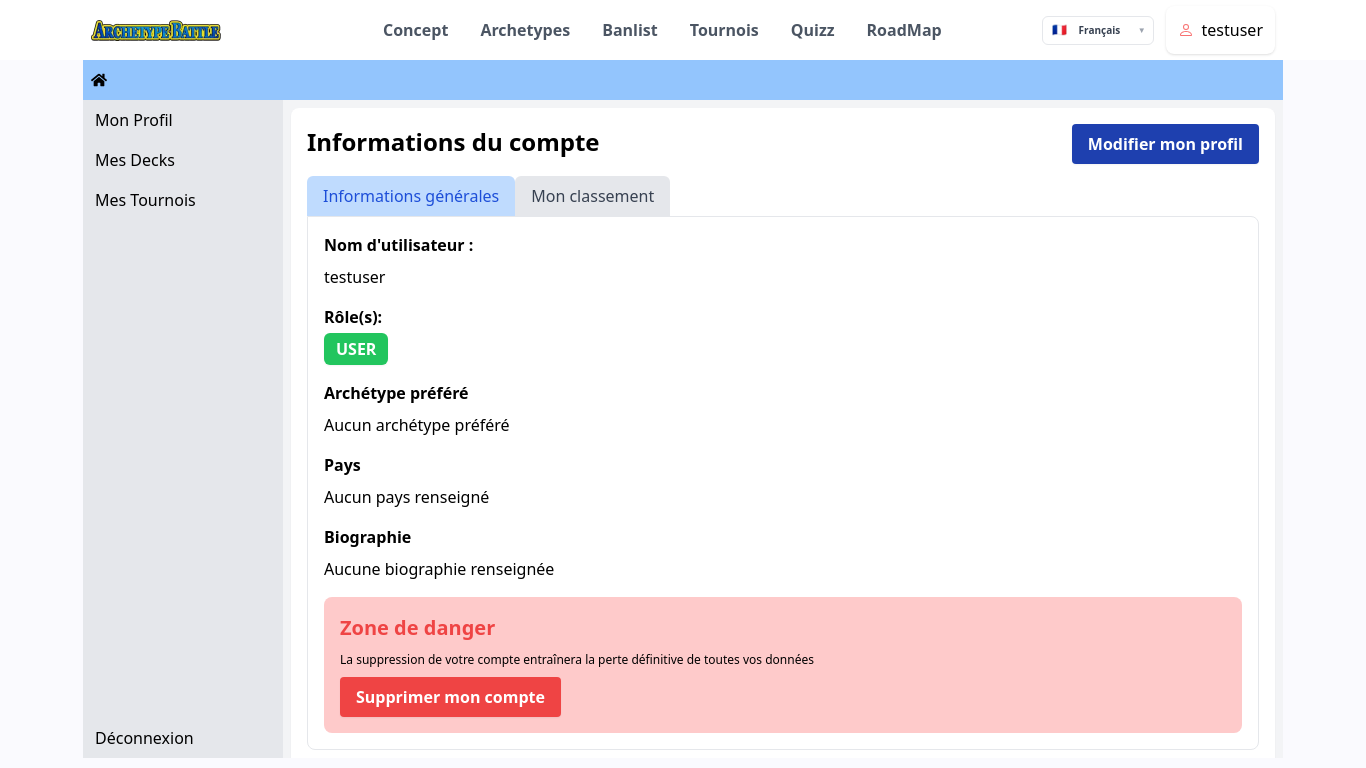
Scenario: MyProfilePage (integration) › account deletion › display the confirmation popup when clicking on 'Supprimer mon compte'
Click the button "Supprimer mon compte" at [450, 697], box [340,677,561,717]
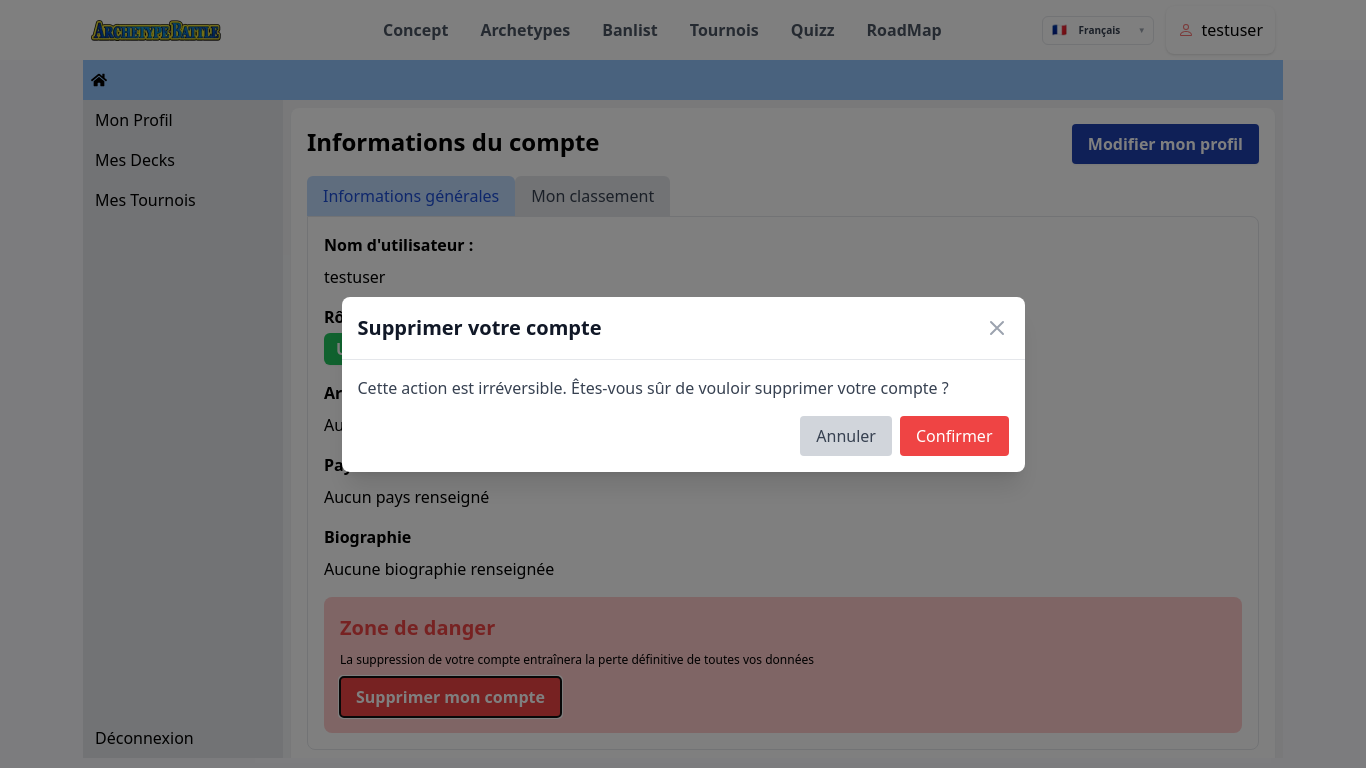
Expected: the heading "Supprimer votre compte" is shown, [358,312,602,342]
Expected: the text "Cette action est irréversible" is shown, [358,376,949,398]
